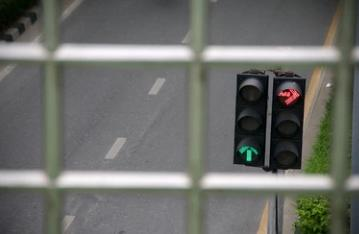green_light: (233, 74, 269, 166)
red_light: (269, 78, 307, 169)
